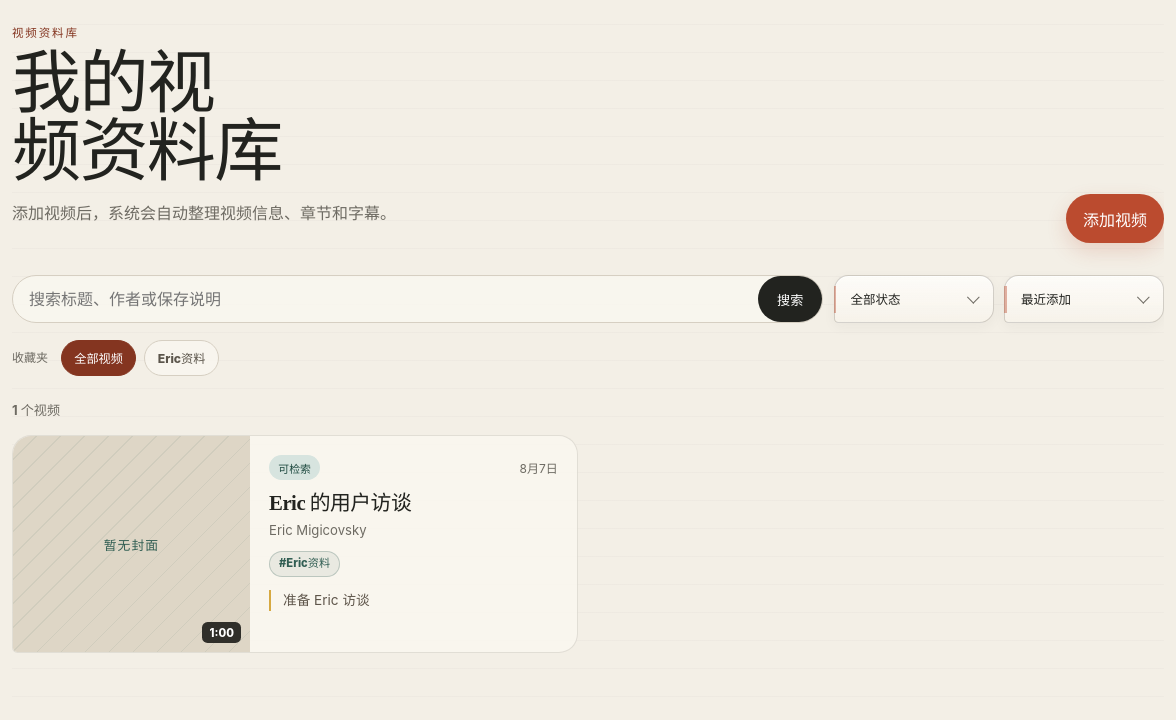
library page › suggests matching loaded titles, authors, and save reasons while typing
The image size is (1176, 720).
Step 1. Type "Eric" into the search field labelled "搜索标题、作者或保存说明" → x=386, y=299, box [13,276,758,322]
(page scrolled)
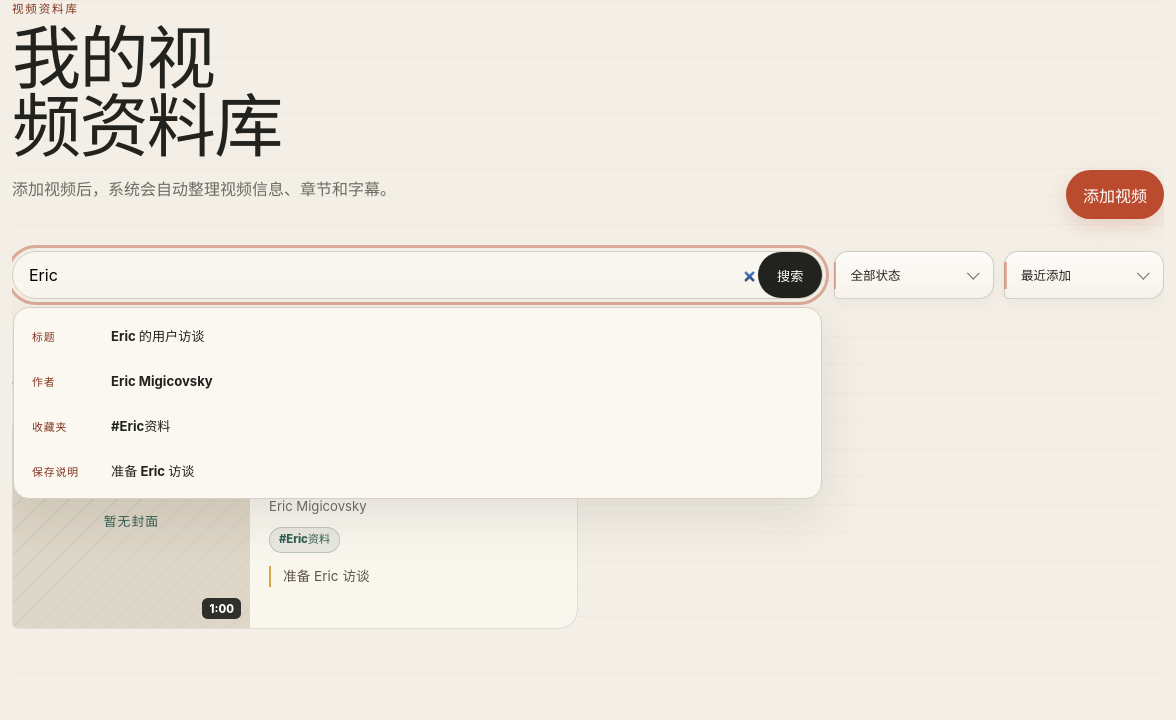
Now the button "标题 Eric 的用户访谈" is shown, box [21,315,814,357]
Now the button "作者 Eric Migicovsky" is shown, box [21,360,814,402]
Now the button "收藏夹 #Eric资料" is shown, box [21,405,814,447]
Step 2. Press the mouse on the element that starts with "视频资料库" → x=588, y=360, box [12,0,1164,719]
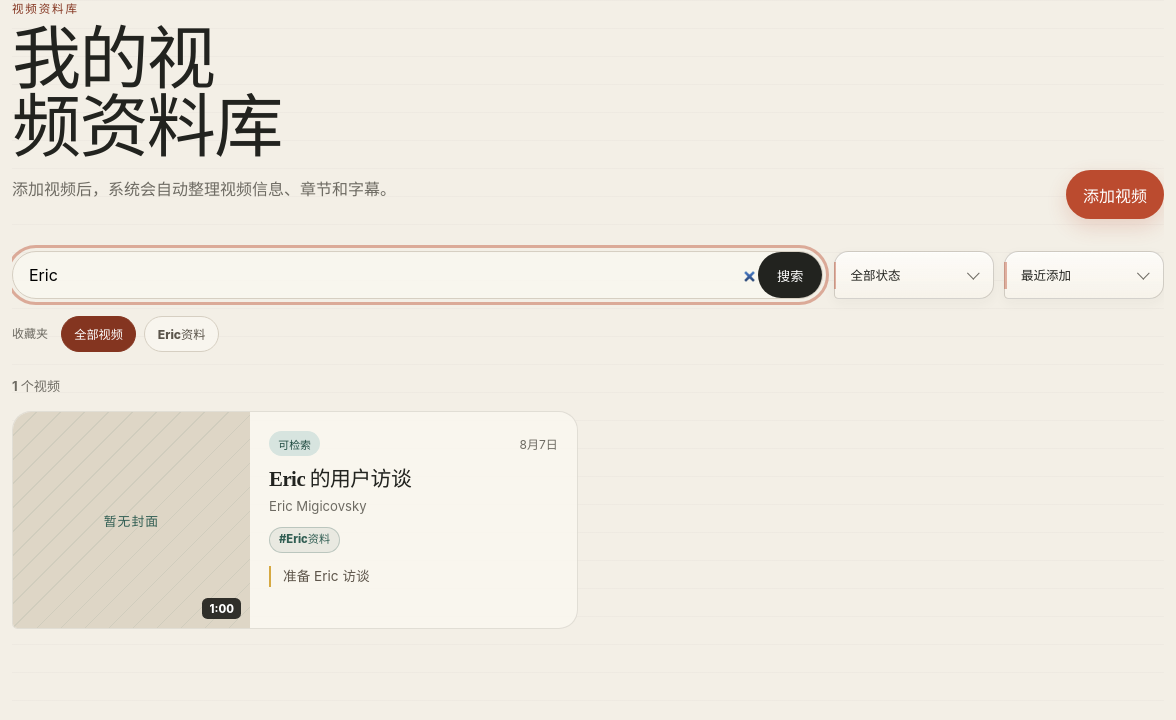
Now the list "搜索建议" is gone
Step 3. Click the search field named "搜索标题、作者或保存说明" → x=386, y=275, box [13,252,758,298]
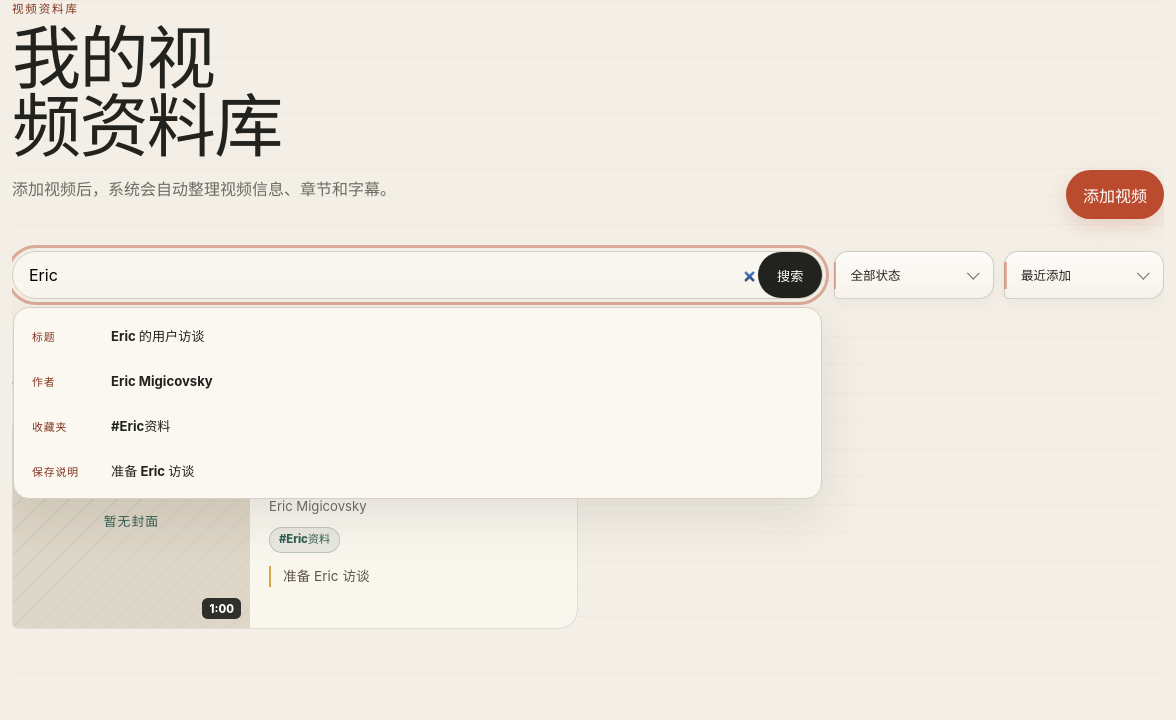
Step 4. Press the mouse on the button "作者 Eric Migicovsky" → x=162, y=381, box [21,360,814,402]
Step 5. Click the button "作者 Eric Migicovsky" → x=162, y=381, box [21,360,814,402]
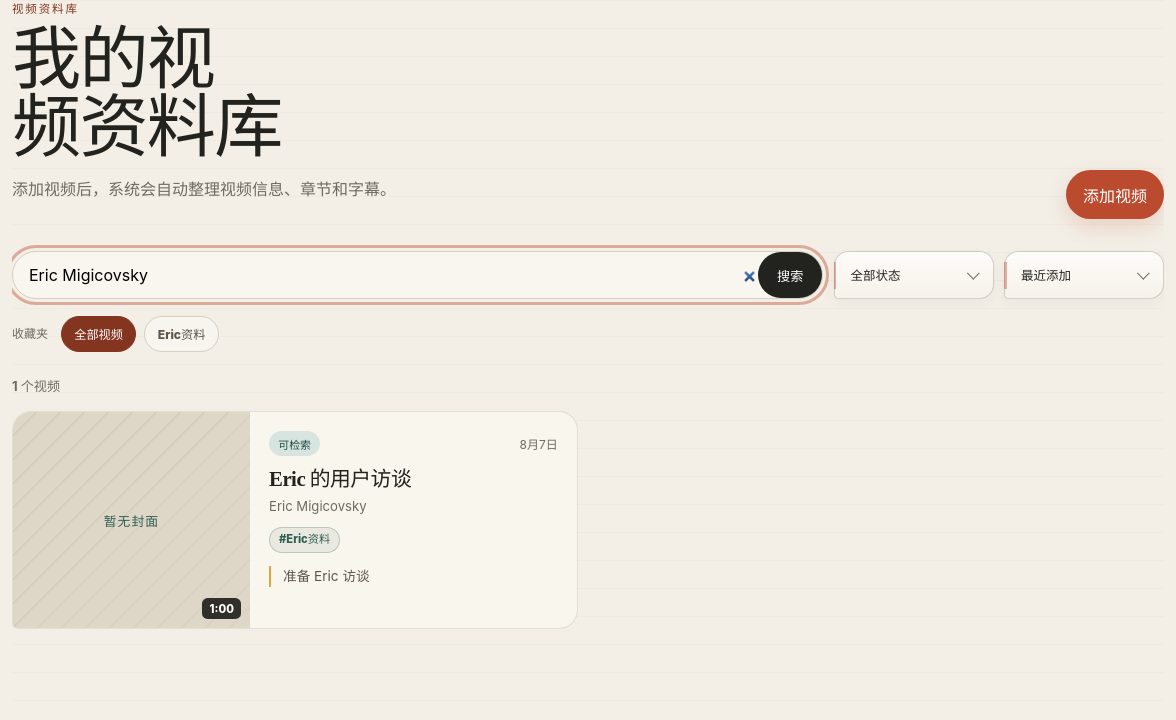
Now the search field named "搜索标题、作者或保存说明" holds "Eric Migicovsky", box [13,252,758,298]
Now the list "搜索建议" is gone
